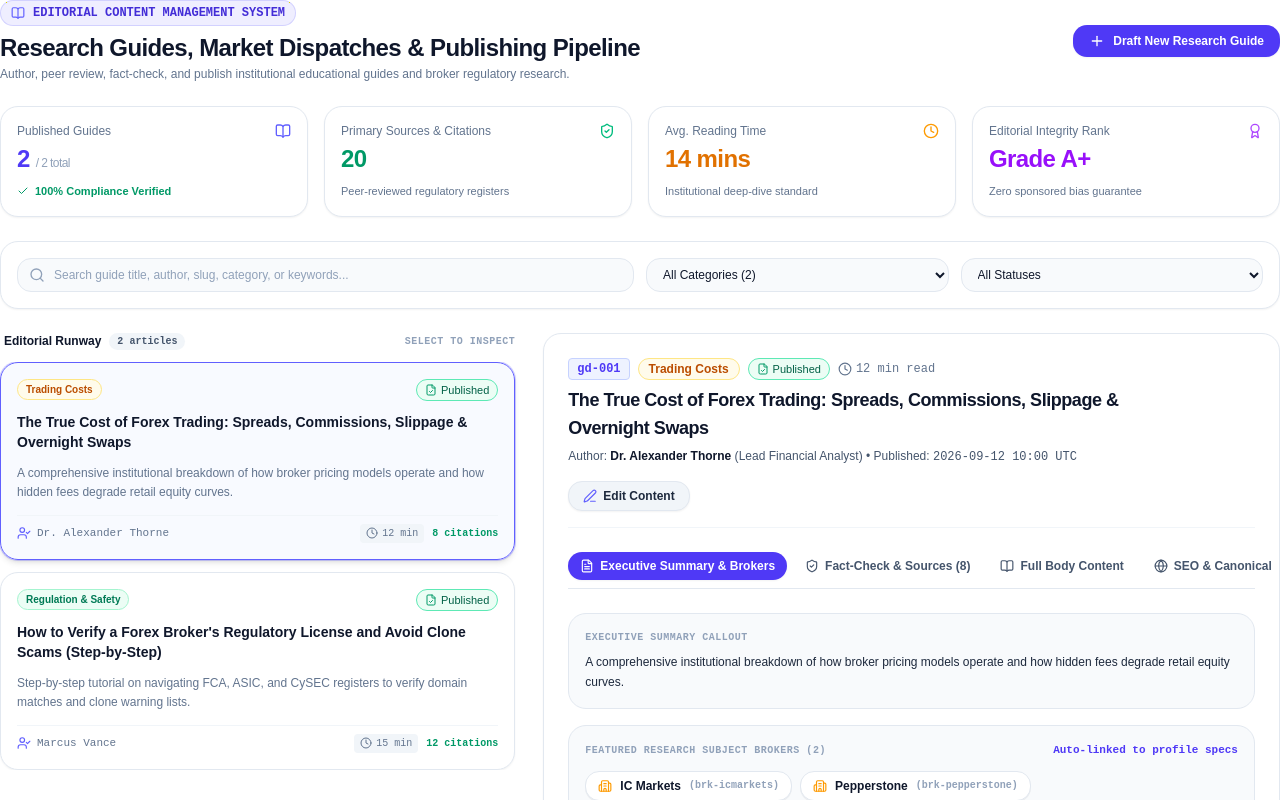
Test: Editorial Content Management & Research Publishing (Screen 10) › opens create guide modal and publishes a new research guide
This screenshot has width=1280, height=800.
Click the button "Draft New Research Guide" at (1177, 41), box [1073,25,1279,57]
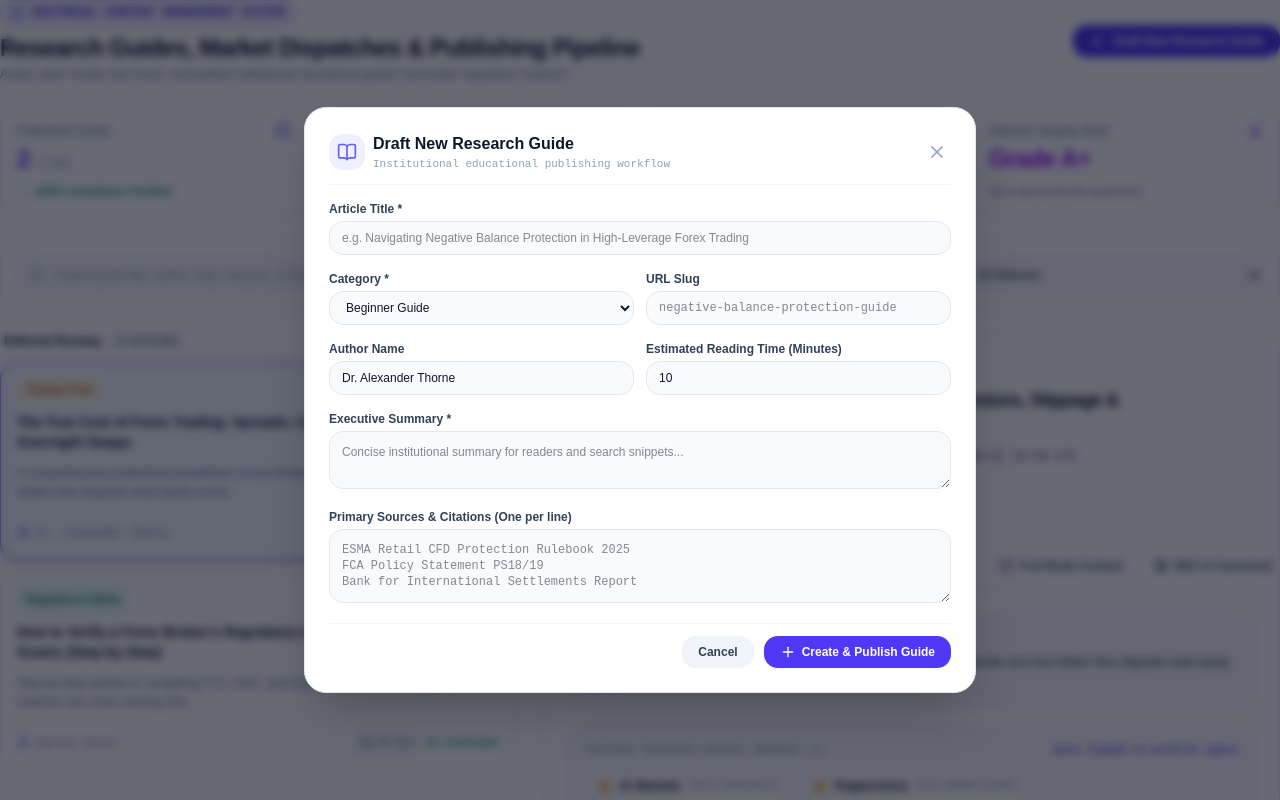
Expected: the text "Institutional educational publishing workflow" is shown, [373,156,670,172]
Replace the text in the field with placeholder "e.g. Navigating Negative Balance Protection" with "Negative Balance Protection Mechanics 2026" at (640, 238), box [329,221,951,255]
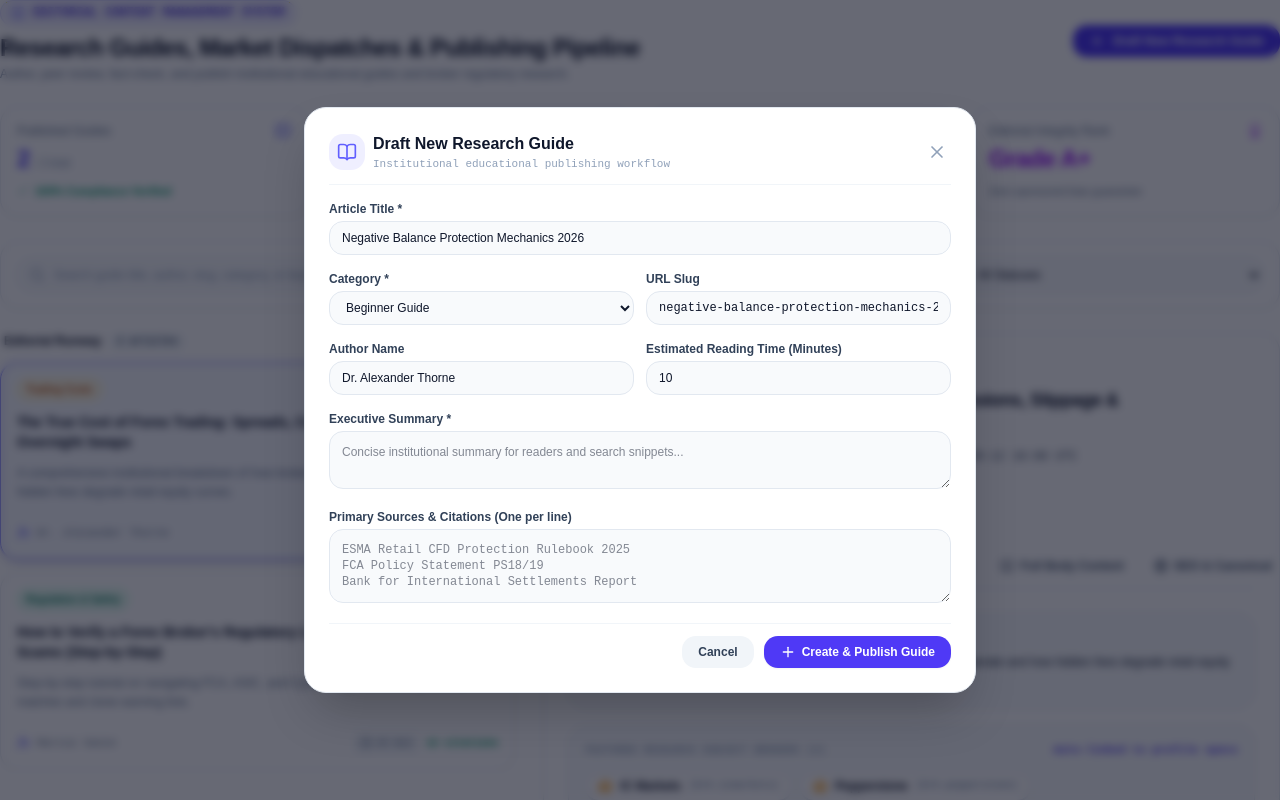
Replace the text in the text box with placeholder "Concise institutional summary" with "Analysis of negative balance protection across ESMA and FCA." at (640, 460), box [329,431,951,489]
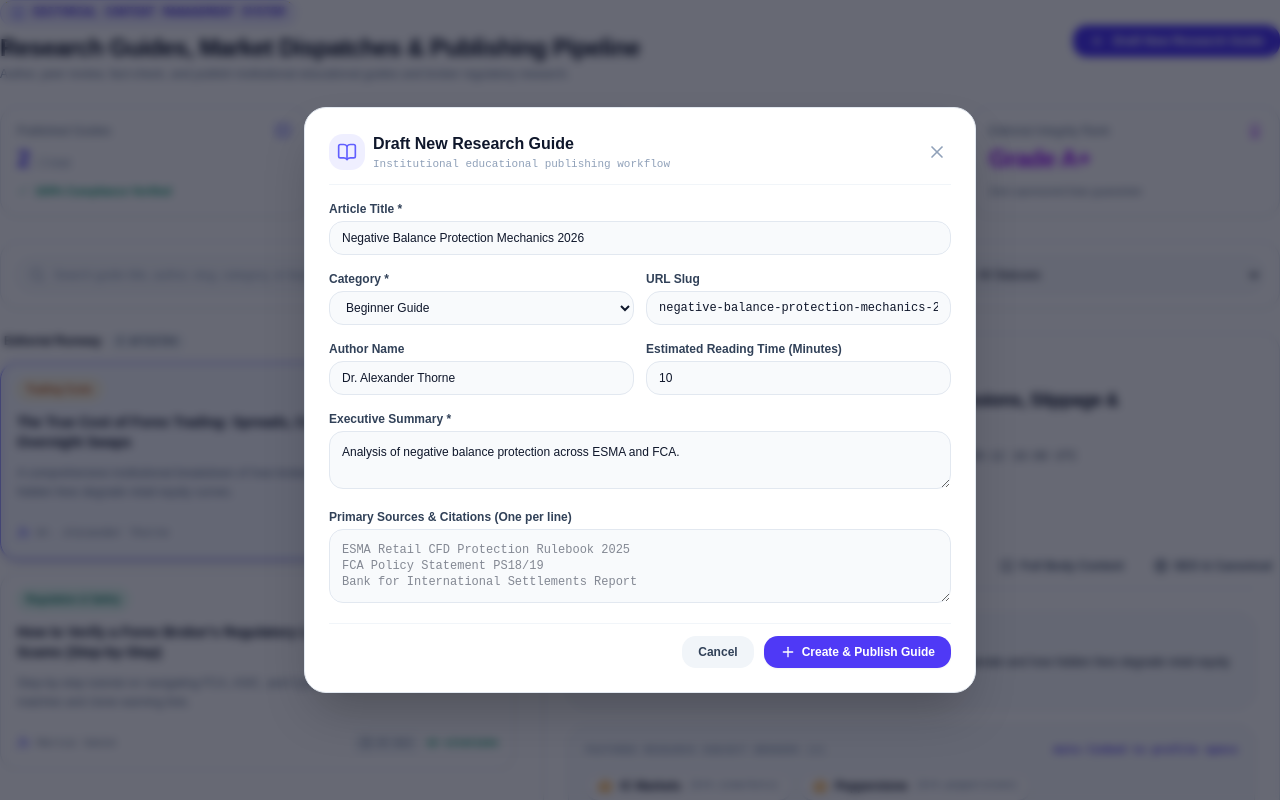
Click the button "Create & Publish Guide" at (857, 652), box [764,636,951,668]
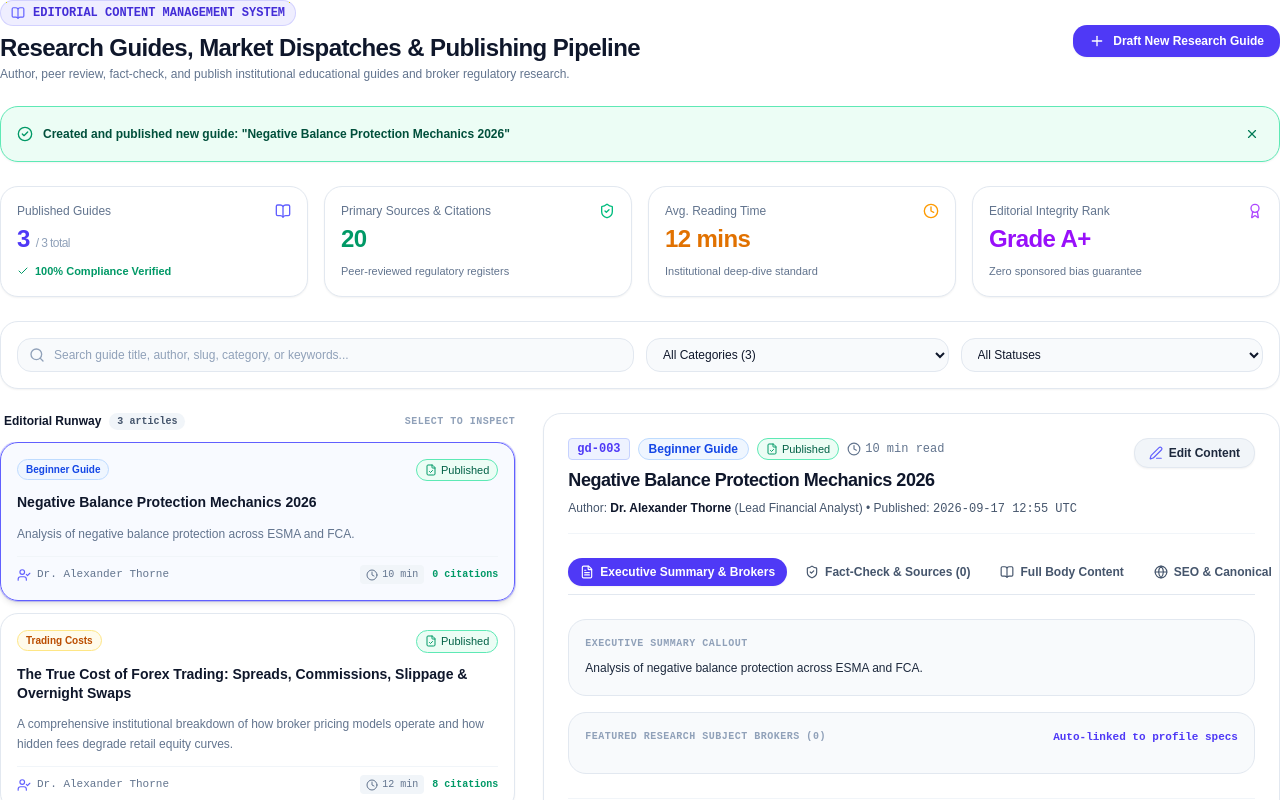
Expected: the text "Negative Balance Protection Mechanics 2026" is shown, [43,127,510,141]
